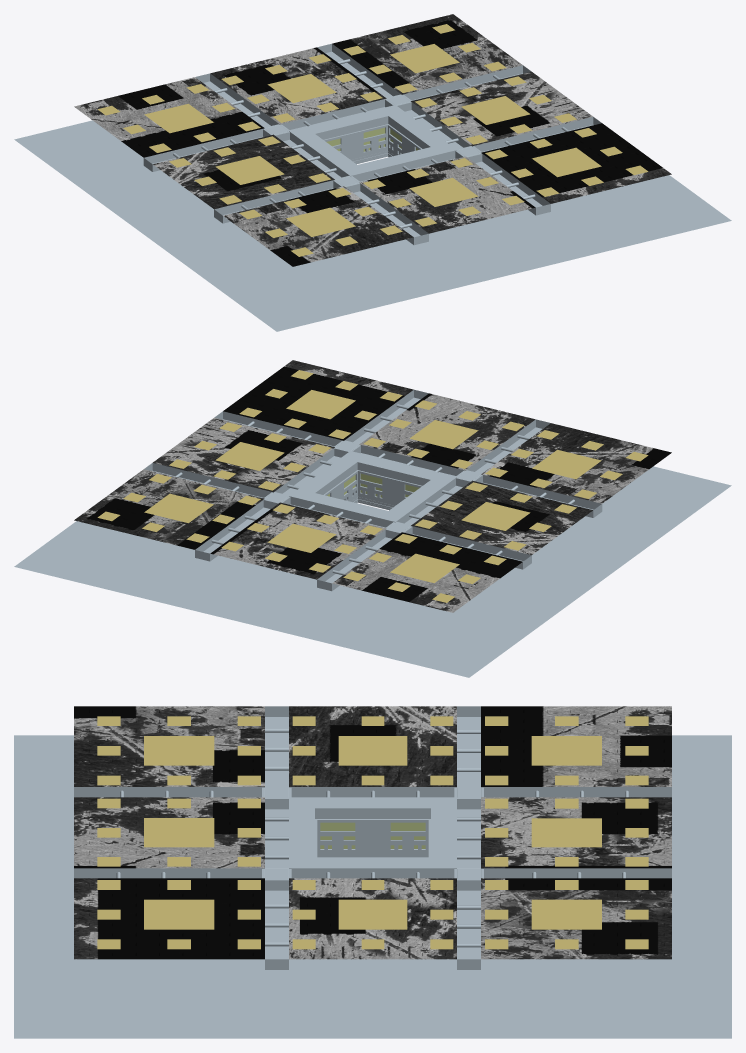
Rendered from WallFour_high.obj.
The picture shows the model from 3 angles, top to bottom: view 1: azimuth 30°, elevation 25°; view 2: azimuth 150°, elevation 25°; view 3: azimuth 270°, elevation 25°; orthographic projection. The views are drawn at different scales.
Parts seen in each view (by area): view 1: Wall_high_wall_high, Panels_high, MiniPanels_high; view 2: Wall_high_wall_high, Panels_high, MiniPanels_high; view 3: Wall_high_wall_high, Panels_high, MiniPanels_high, TunnelLight_high.
Boxes of the visible parts, box(x1,y1,x2,y2) form: Wall_high_wall_high: box(14, 43, 731, 331); Panels_high: box(74, 14, 671, 266); MiniPanels_high: box(97, 24, 648, 256); Wall_high_wall_high: box(14, 389, 731, 677); Panels_high: box(74, 360, 671, 612); MiniPanels_high: box(97, 370, 648, 602); Wall_high_wall_high: box(14, 706, 731, 1038); Panels_high: box(74, 706, 671, 959); MiniPanels_high: box(97, 716, 648, 949); TunnelLight_high: box(320, 822, 425, 848).
Size of the model in its own units: 2.4 by 0.2 by 2.4.
